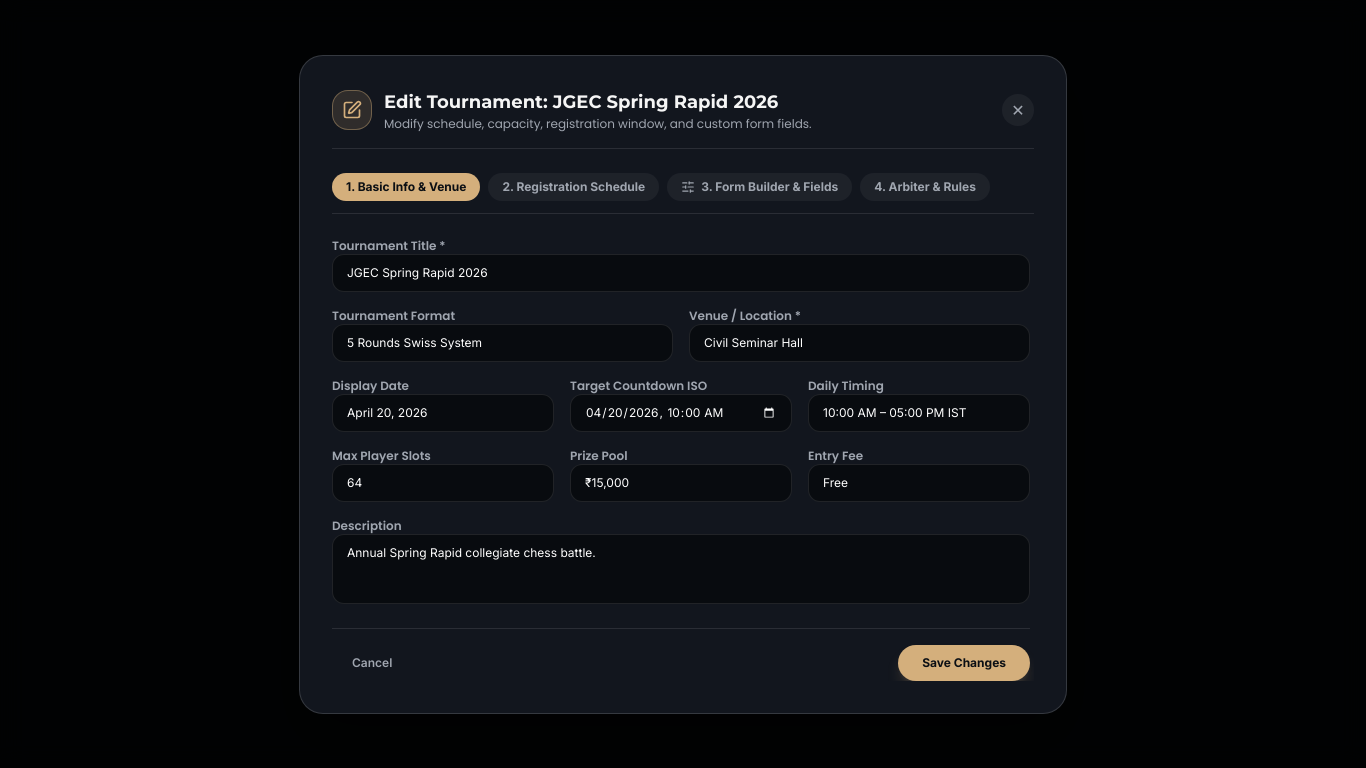
it: TournamentFormModal Component › allows adding and removing custom questions in the Form Builder tab
// Navigate to Form tab
Click the button "3. Form Builder & Fields": (760, 186) [667,172,852,200]
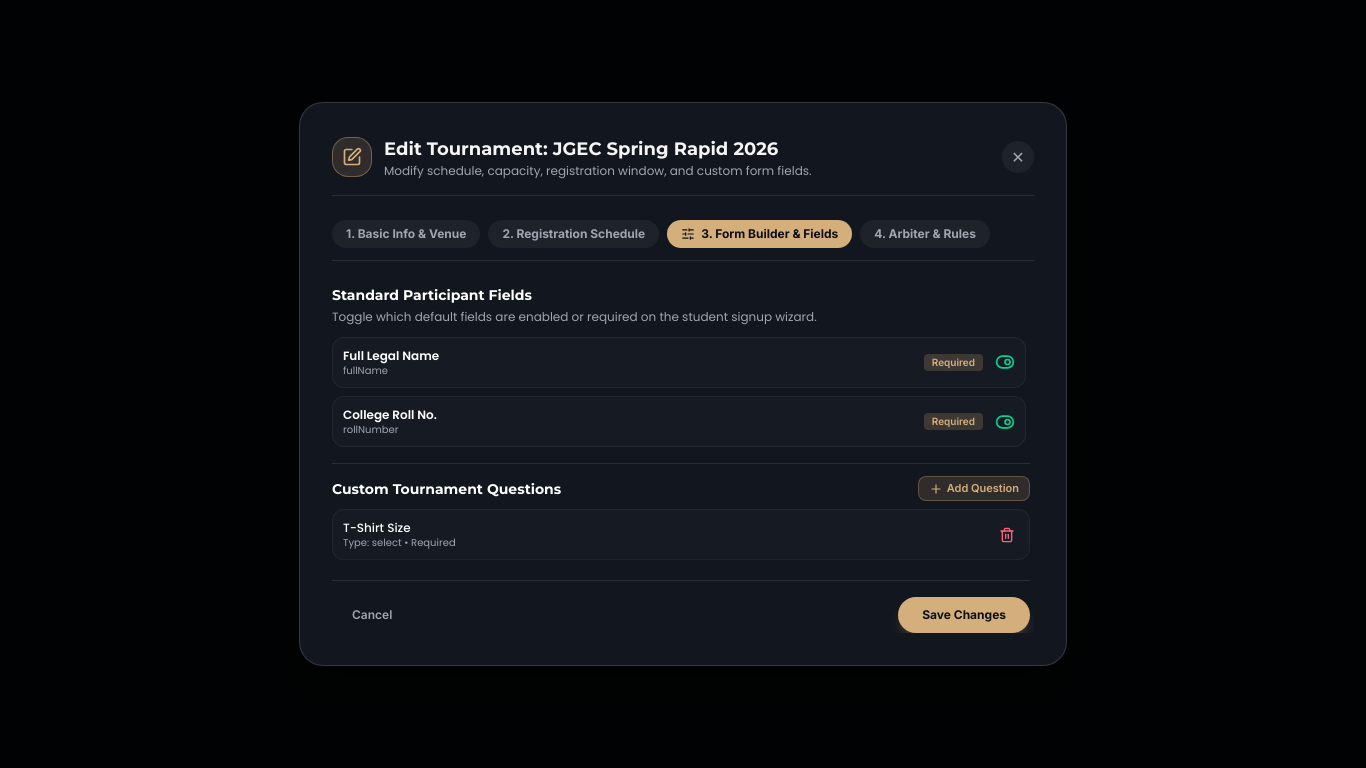
// Click "Add Question"
Click the button "Add Question": (974, 489) [918,476,1030,501]
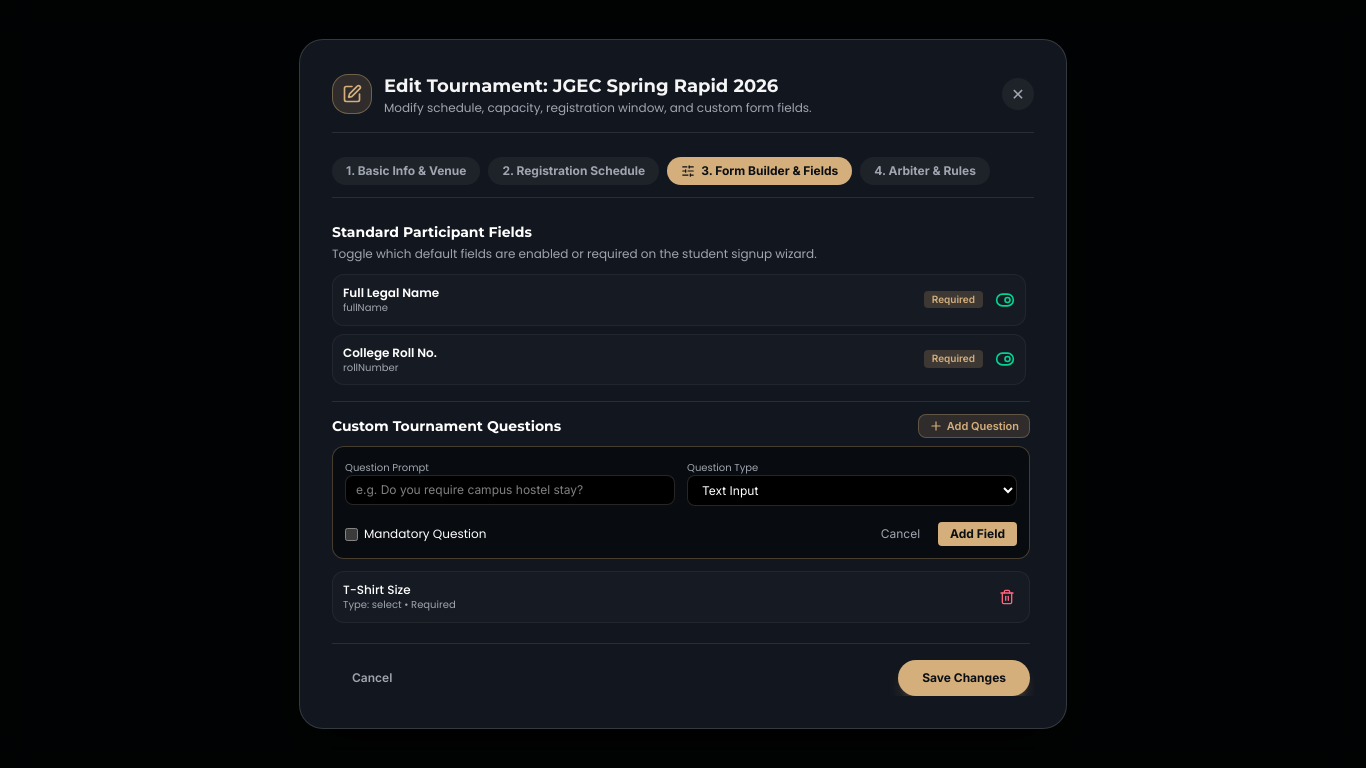
Result: the text "Question Prompt" is shown at [345,460,429,476]
// Fill in question prompt
In the field with placeholder "e.g. Do you require campus hostel stay?": (510, 490) [345,476,675,506], type "Hostel Accommodation Needed"
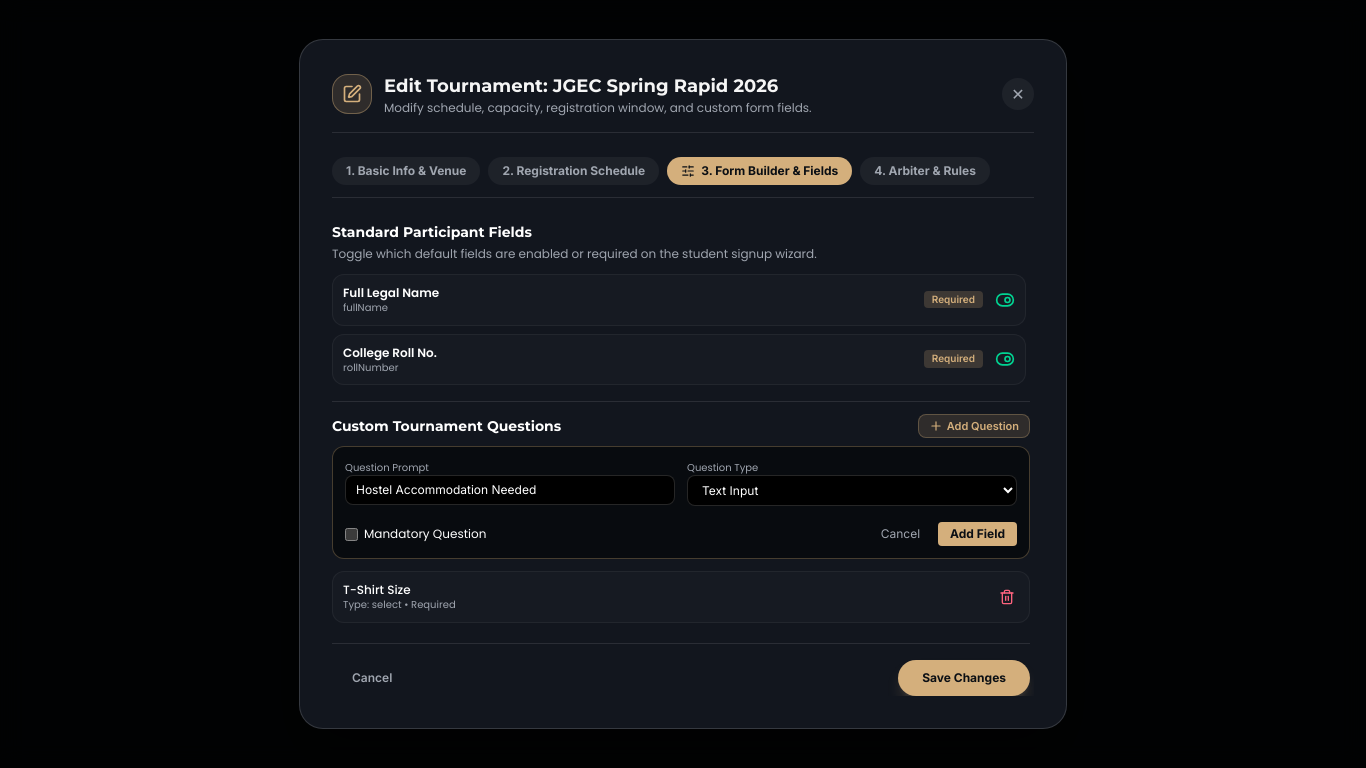
// Click "Add Field"
Click the button "Add Field": (978, 534) [938,522,1017,546]
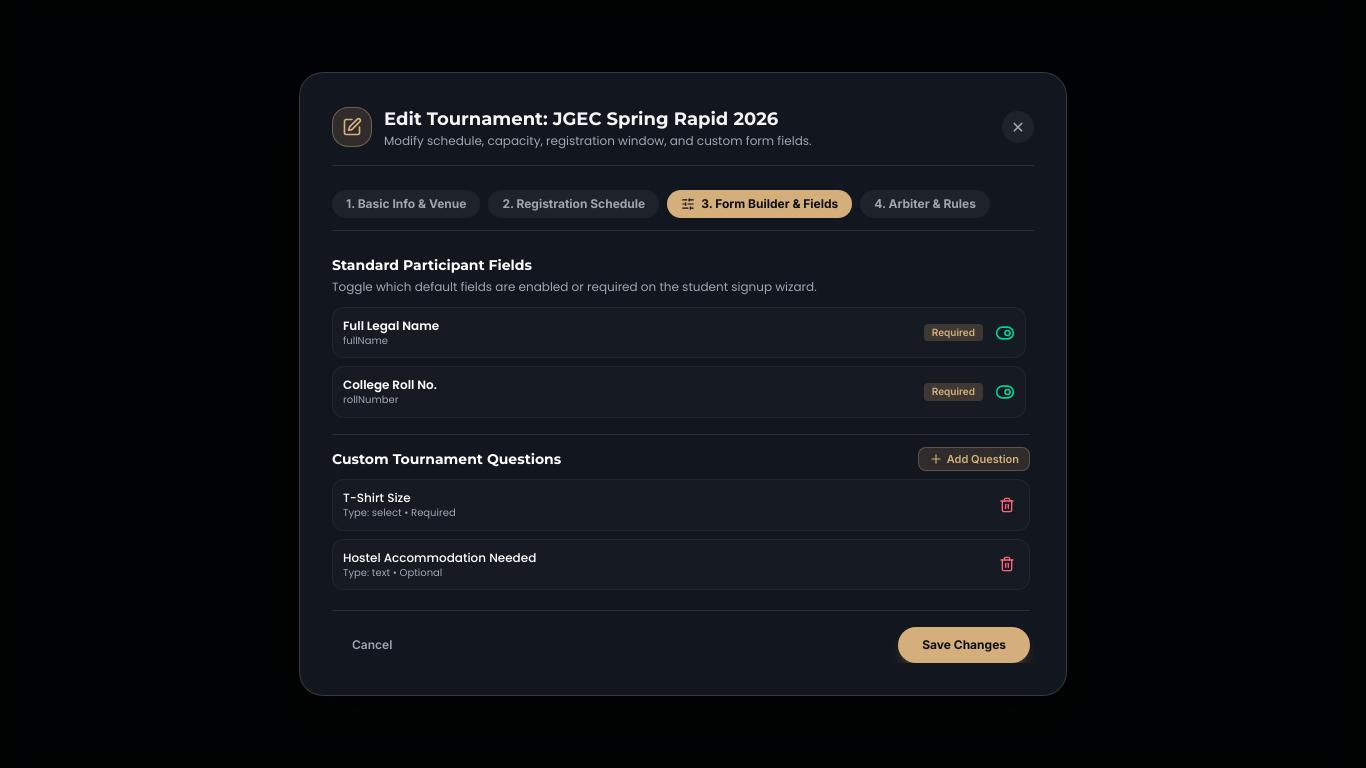
Result: the text "Hostel Accommodation Needed" is shown at [343,549,536,566]
// Remove the newly added question
Click the button named "Remove question": (1007, 564) [995,552,1019,576]
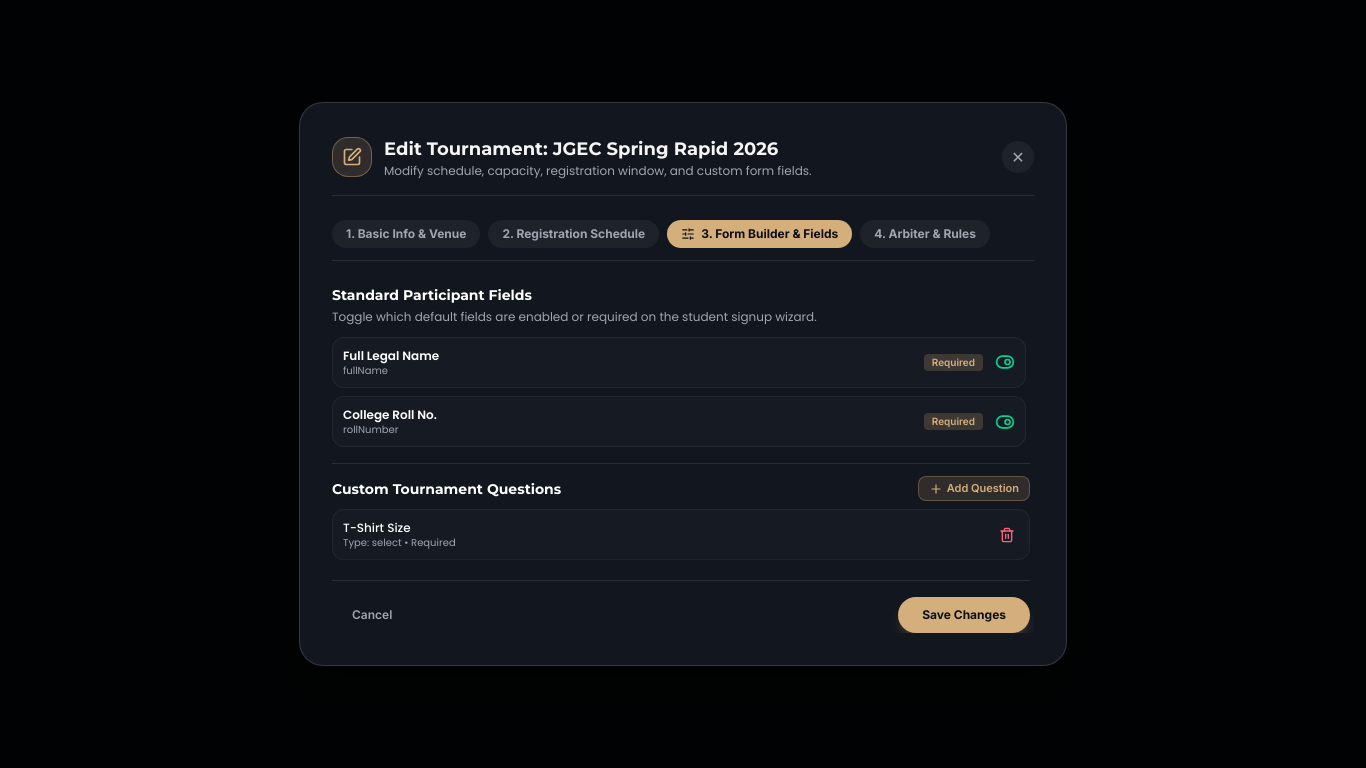
Result: the text "Hostel Accommodation Needed" is gone
